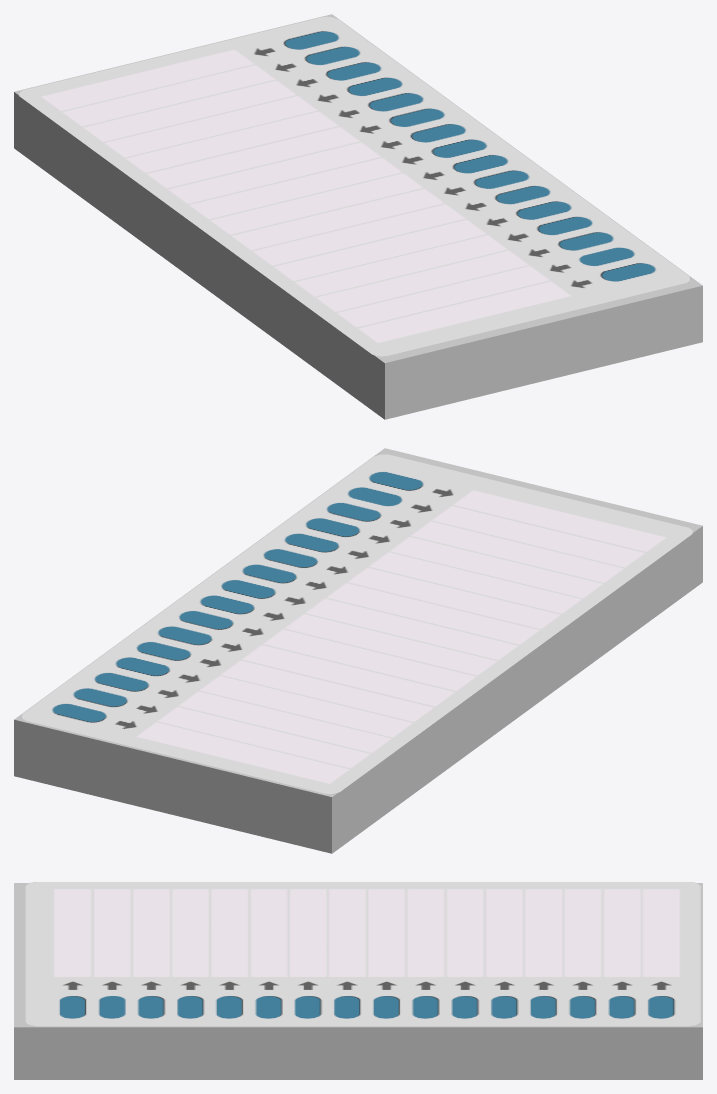
The picture shows the model from 3 angles, top to bottom: view 1: azimuth 30°, elevation 25°; view 2: azimuth 150°, elevation 25°; view 3: azimuth 270°, elevation 25°; orthographic projection. The views are drawn at different scales.
Visible parts, largest first — view 1: Quad, Cube; view 2: Quad, Cube; view 3: Quad, Cube.
Boxes of the visible parts, x1=… form: Quad: x1=18, y1=16, x2=691, y2=356; Cube: x1=14, y1=14, x2=702, y2=419; Quad: x1=20, y1=454, x2=693, y2=794; Cube: x1=14, y1=448, x2=702, y2=853; Quad: x1=25, y1=882, x2=700, y2=1026; Cube: x1=14, y1=883, x2=702, y2=1079.
Size of the model in its own units: 1.03 by 0.1763 by 2.07.
2 materials, 1 textured.
